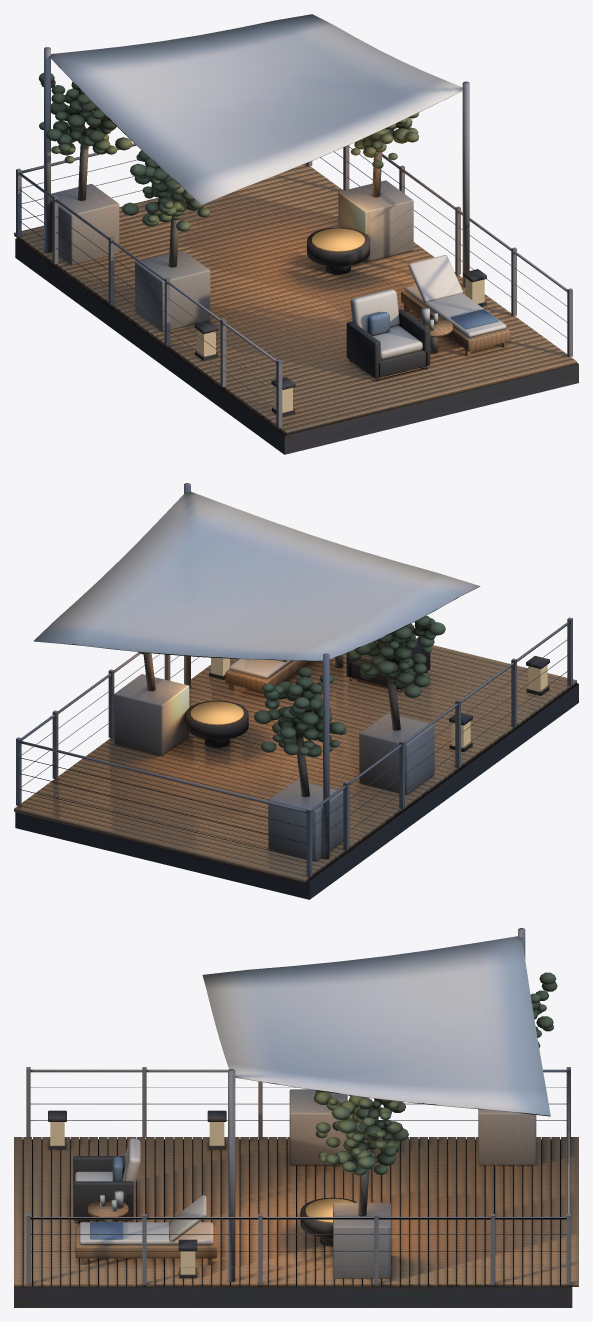
The model's file is terrace.glb.
3 renders of one model, top to bottom at view 1: azimuth 30°, elevation 25°; view 2: azimuth 150°, elevation 25°; view 3: azimuth 270°, elevation 25°, orthographic. The views are drawn at different scales.
Visible parts, largest first — view 1: things, deck, lights; view 2: things, deck, lights; view 3: things, deck, lights.
Boxes of the visible parts, <box> form: things: <box>16,14,572,428</box>; deck: <box>14,163,578,454</box>; lights: <box>197,228,484,412</box>; things: <box>16,483,572,876</box>; deck: <box>14,645,578,899</box>; lights: <box>190,657,547,747</box>; things: <box>26,928,570,1284</box>; deck: <box>14,1137,578,1307</box>; lights: <box>50,1122,353,1274</box>.
Bounding box in the file's own units: 5.05 × 3.55 × 7.79.
4 materials, 2 textured.
